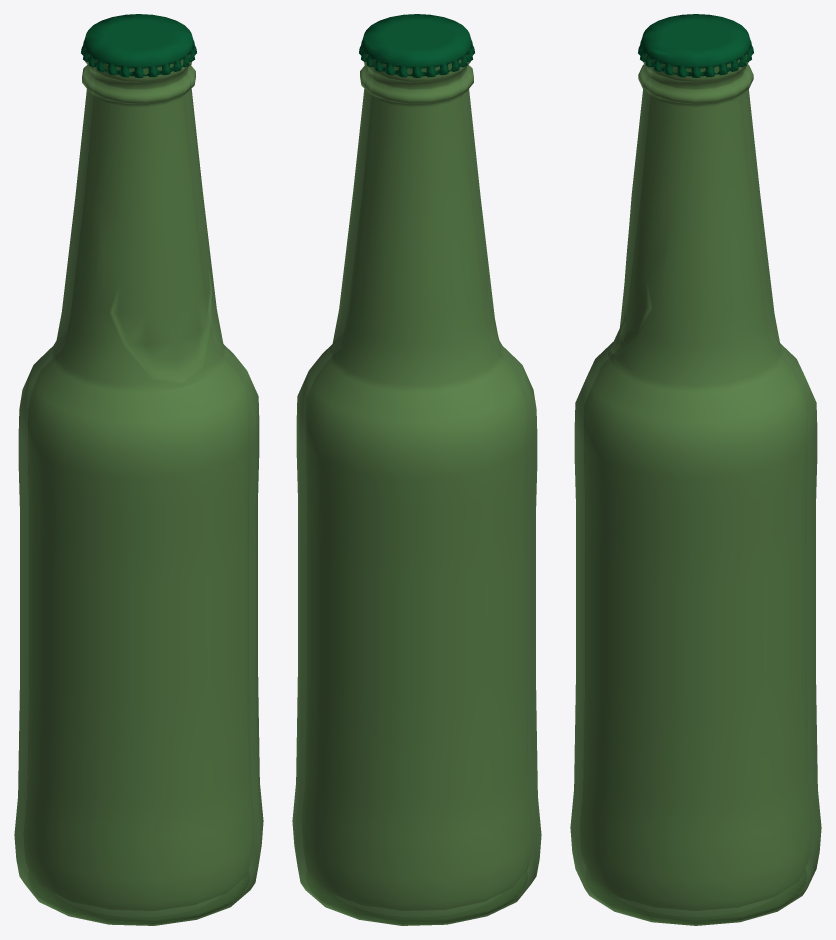
The model's file is BottleNew.fbx.
The picture shows the model from 3 angles, left to right: view 1: azimuth 30°, elevation 25°; view 2: azimuth 150°, elevation 25°; view 3: azimuth 270°, elevation 25°; orthographic projection.
Parts seen in each view (by area): view 1: GARRAFA; view 2: GARRAFA; view 3: GARRAFA.
Boxes of the visible parts, box(x1,y1,x2,y2) form: GARRAFA: box(14, 14, 263, 925); GARRAFA: box(292, 14, 541, 925); GARRAFA: box(570, 14, 821, 925).
Size of the model in its own units: 12.73 by 47.38 by 12.73.
